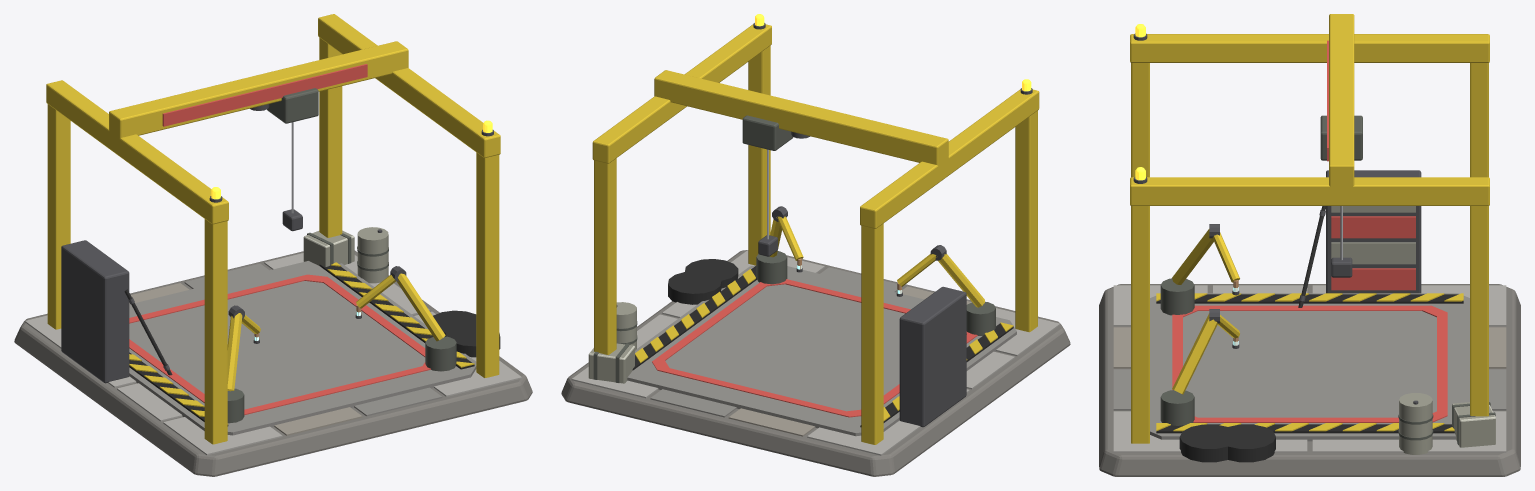
The model's file is repair_bay_red.glb.
3 renders of one model, left to right at view 1: azimuth 30°, elevation 25°; view 2: azimuth 150°, elevation 25°; view 3: azimuth 270°, elevation 25°, orthographic. The views are drawn at different scales.
Visible parts, largest first — view 1: Body; view 2: Body; view 3: Body.
Part boxes in pixels (x1,y1,x2,y2): Body: (14,14,532,476); Body: (561,14,1070,476); Body: (1099,14,1520,476).
Bounding box in the file's own units: 4.06 × 3.12 × 3.98.
Materials: 1 (1 with a texture image).
